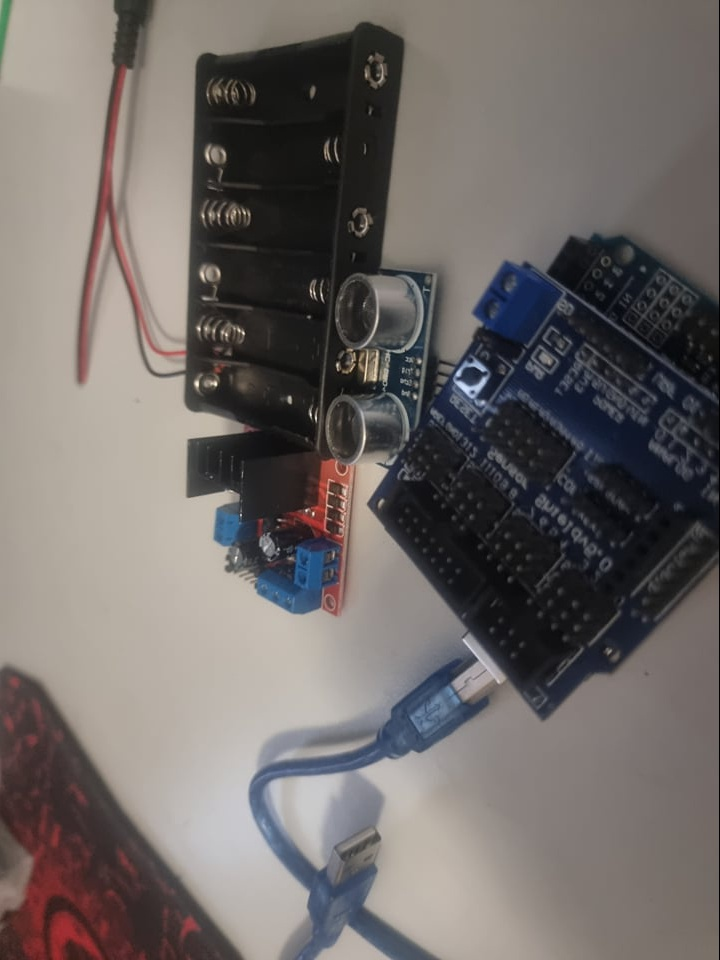5V EXPANSION: (360, 267, 712, 722)
BATTERY BOX: (180, 19, 396, 451)
MOTOR: (185, 424, 356, 620)
SENSOR: (325, 273, 433, 464)
